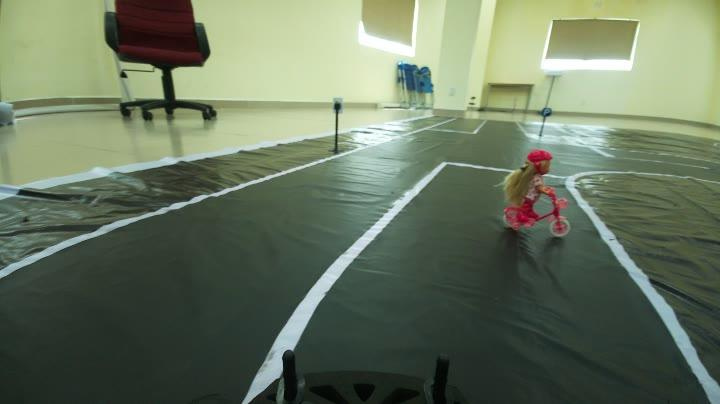pedestrian: (492, 146, 570, 246)
